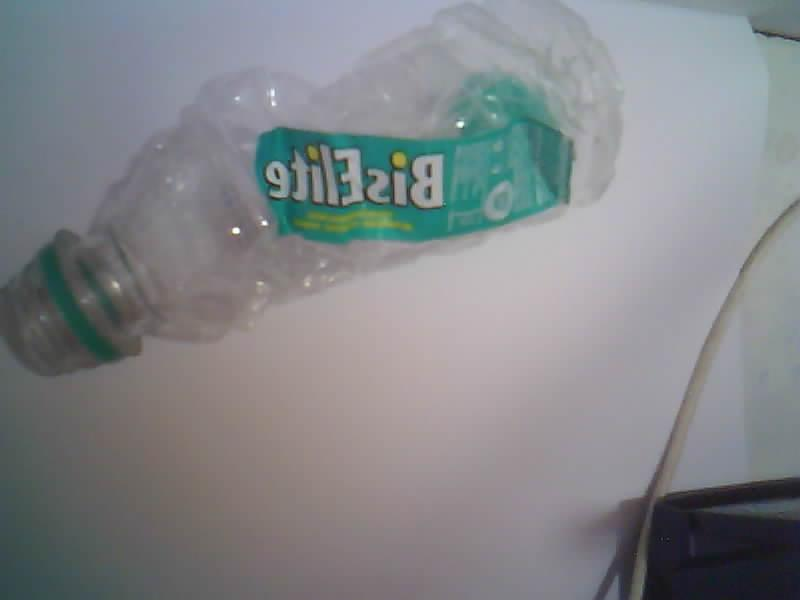non-biodegradable: (0, 0, 622, 375)
